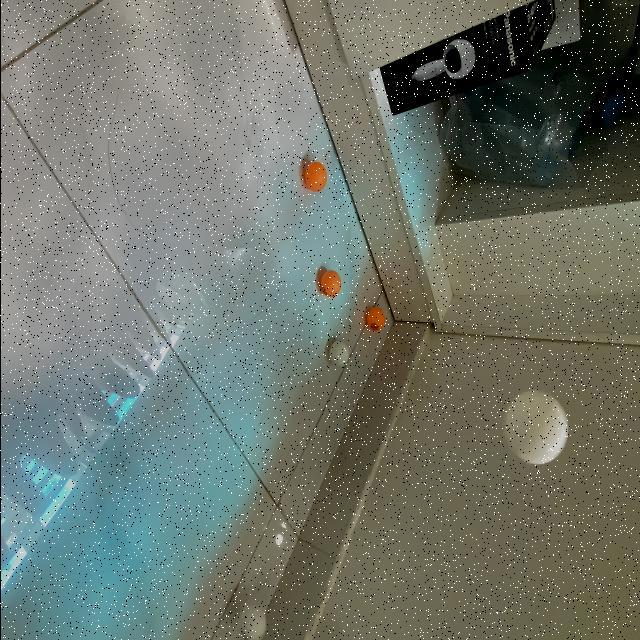ping-pong-ball: (502, 388, 568, 462), (238, 603, 266, 640), (304, 164, 328, 192), (319, 270, 342, 298), (328, 342, 348, 368), (365, 306, 384, 332)
